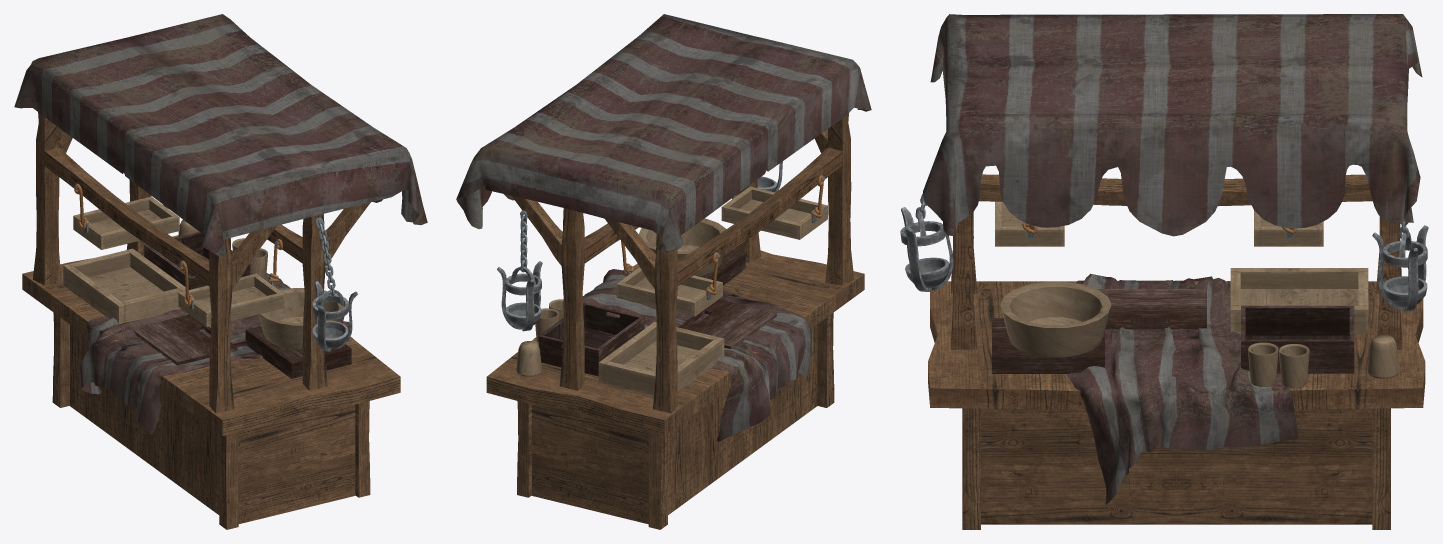
File: counter.fbx
3 renders of one model, left to right at view 1: azimuth 30°, elevation 25°; view 2: azimuth 150°, elevation 25°; view 3: azimuth 270°, elevation 25°, orthographic. The views are drawn at different scales.
Visible parts, largest first — view 1: Plane, Cube.005, Cylinder.015; view 2: Plane, Cube.005, Cylinder.015; view 3: Plane, Cube.005, Cylinder.015.
Boxes of the visible parts, x1,y1,x2,y2 form: Plane: (14, 14, 427, 434); Cube.005: (22, 112, 400, 529); Cylinder.015: (63, 183, 357, 378); Plane: (456, 14, 871, 441); Cube.005: (486, 113, 864, 529); Cylinder.015: (497, 161, 827, 395); Plane: (923, 14, 1422, 504); Cube.005: (928, 174, 1425, 529); Cylinder.015: (900, 194, 1428, 388).
Bounding box in the file's own units: 186 × 259 × 293.
